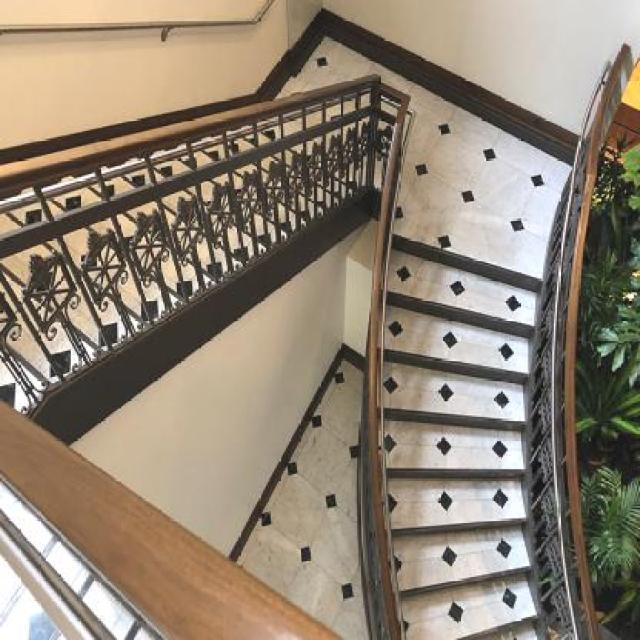stair: (342, 133, 613, 639)
